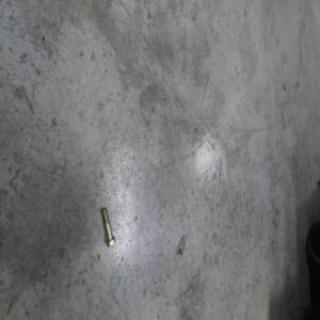Bolttrack_idkeyframe: (100, 204, 116, 248)
